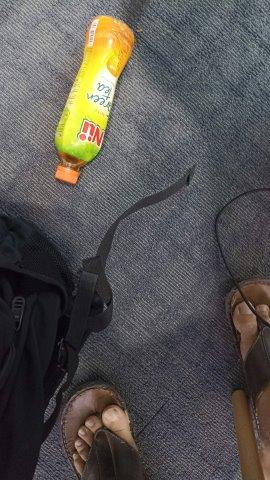botolplastik: (54, 16, 134, 185)
